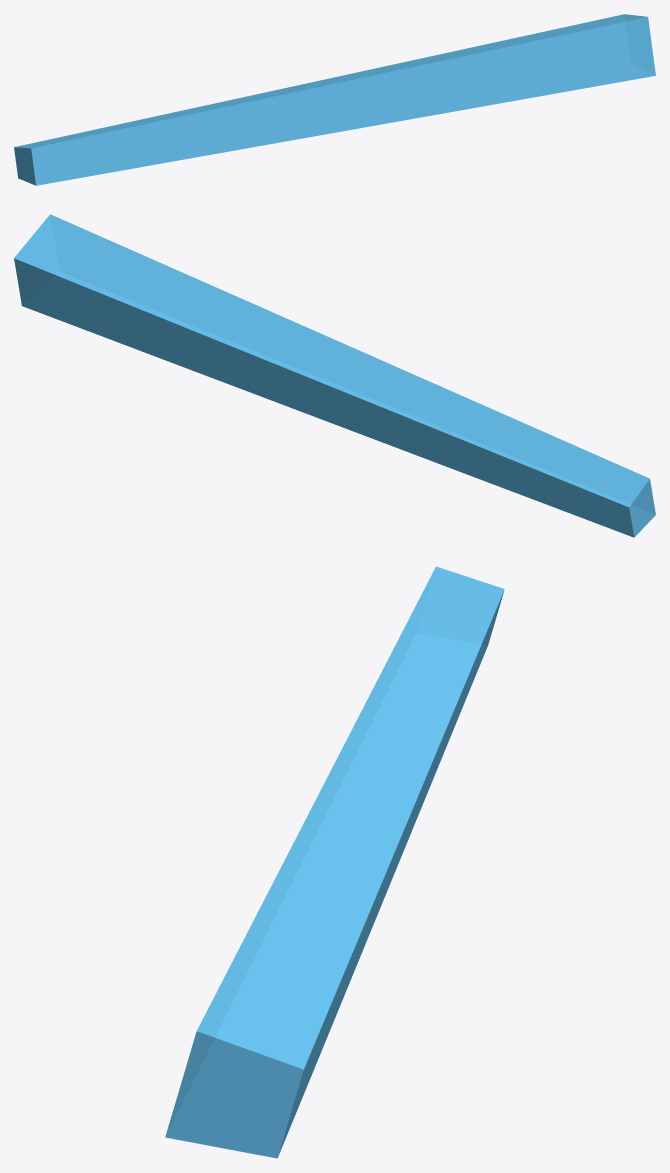
The model's file is Event_420107950_HErechit_60.fbx.
3 renders of one model, top to bottom at view 1: azimuth 30°, elevation 25°; view 2: azimuth 150°, elevation 25°; view 3: azimuth 270°, elevation 25°, orthographic. The views are drawn at different scales.
Parts seen in each view (by area): view 1: Model; view 2: Model; view 3: Model.
Boxes of the visible parts, left/top/right/bottom form: Model: left=14, top=14, right=655, bottom=185; Model: left=14, top=214, right=655, bottom=537; Model: left=165, top=566, right=504, bottom=1158.
Size of the model in its own units: 6.42 by 0.8651 by 1.69.
